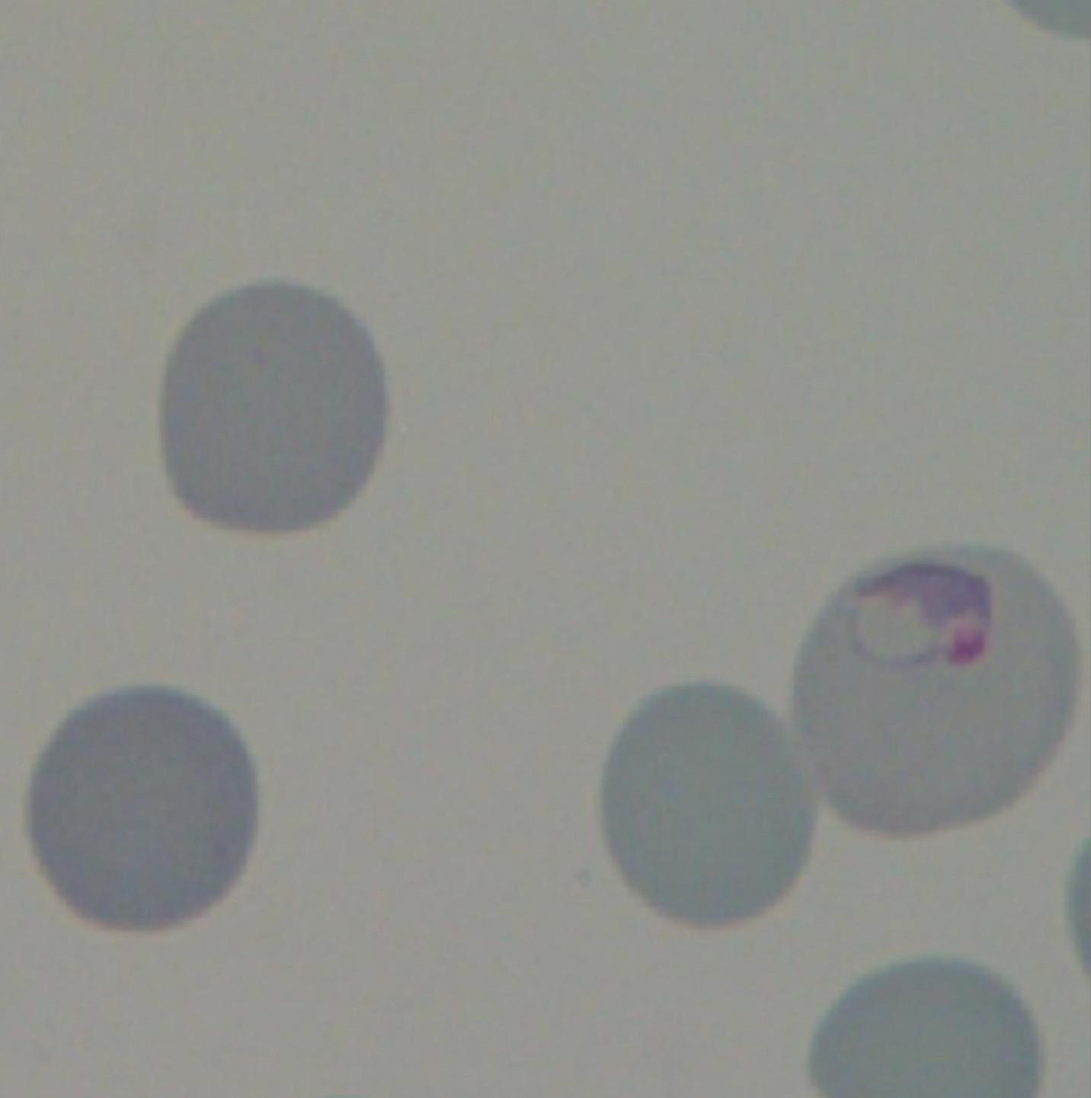Infected: (8, 254, 301, 545)
Uninfected: (703, 562, 933, 817), (832, 168, 1066, 411), (270, 170, 488, 417), (46, 0, 283, 136)
